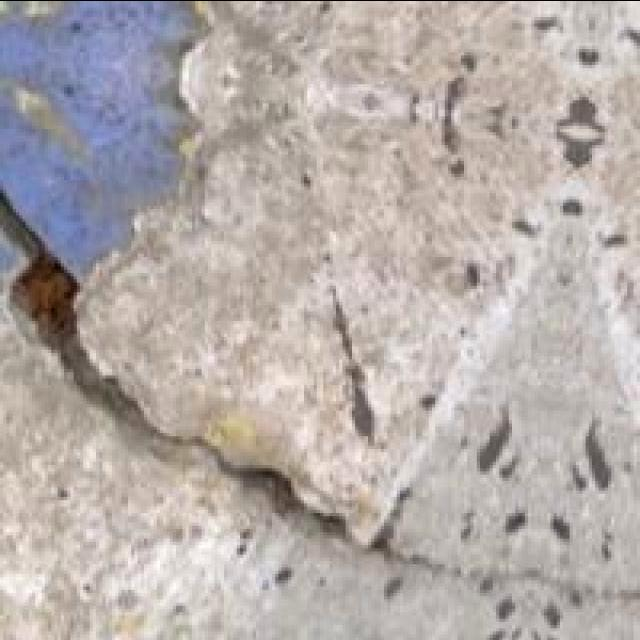SurfaceCrack: (0, 182, 438, 588)
